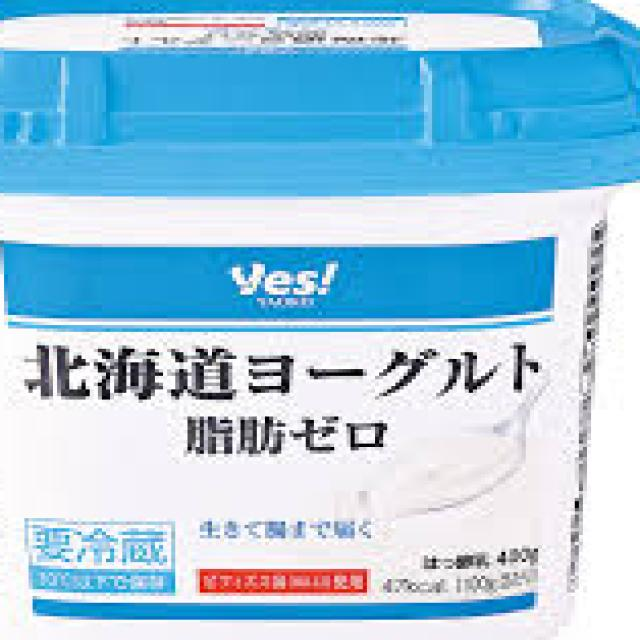organic: (13, 3, 607, 638)
